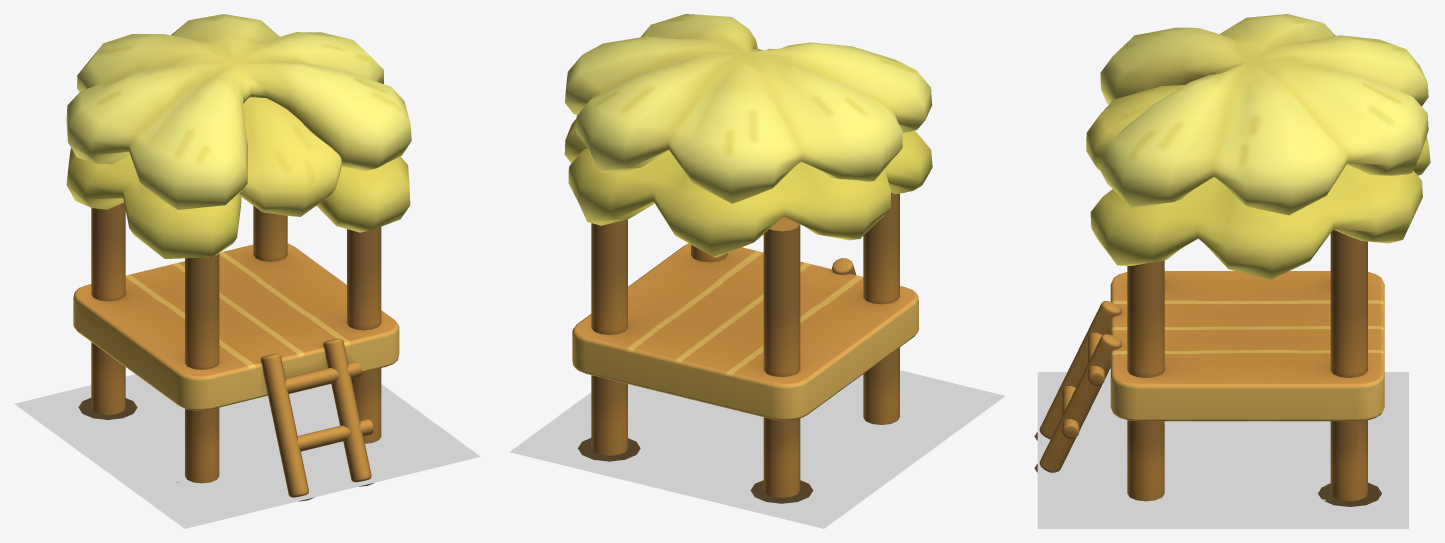
Rendered from VK_Gazebo.fbx.
The picture shows the model from 3 angles, left to right: view 1: azimuth 30°, elevation 25°; view 2: azimuth 150°, elevation 25°; view 3: azimuth 270°, elevation 25°; orthographic projection. The views are drawn at different scales.
Visible parts, largest first — view 1: gazebo_group46_pCylinder62, gazebo_pCylinder67, Gazebo_Grid_Large, gazebo_pCylinder72, Gazebo_Grid, Shadow; view 2: gazebo_group46_pCylinder62, gazebo_pCylinder67, Gazebo_Grid_Large, Gazebo_Grid, Shadow; view 3: gazebo_group46_pCylinder62, gazebo_pCylinder67, Gazebo_Grid_Large, Gazebo_Grid, gazebo_pCylinder72, Shadow.
Part boxes in pixels (left/top/right/bottom): gazebo_group46_pCylinder62: left=66, top=14, right=411, bottom=258; gazebo_pCylinder67: left=73, top=202, right=399, bottom=483; Gazebo_Grid_Large: left=14, top=374, right=480, bottom=528; gazebo_pCylinder72: left=260, top=338, right=373, bottom=497; Gazebo_Grid: left=131, top=392, right=344, bottom=479; Shadow: left=78, top=398, right=374, bottom=501; gazebo_group46_pCylinder62: left=564, top=14, right=932, bottom=257; gazebo_pCylinder67: left=572, top=192, right=918, bottom=497; Gazebo_Grid_Large: left=509, top=370, right=1004, bottom=528; Gazebo_Grid: left=634, top=398, right=862, bottom=463; Shadow: left=578, top=438, right=813, bottom=503; gazebo_group46_pCylinder62: left=1086, top=14, right=1430, bottom=279; gazebo_pCylinder67: left=1110, top=229, right=1384, bottom=501; Gazebo_Grid_Large: left=1037, top=372, right=1408, bottom=528; Gazebo_Grid: left=1164, top=421, right=1316, bottom=489; gazebo_pCylinder72: left=1039, top=301, right=1121, bottom=472; Shadow: left=1034, top=432, right=1381, bottom=506.
Size of the model in its own units: 2.04 by 2.36 by 2.13.
